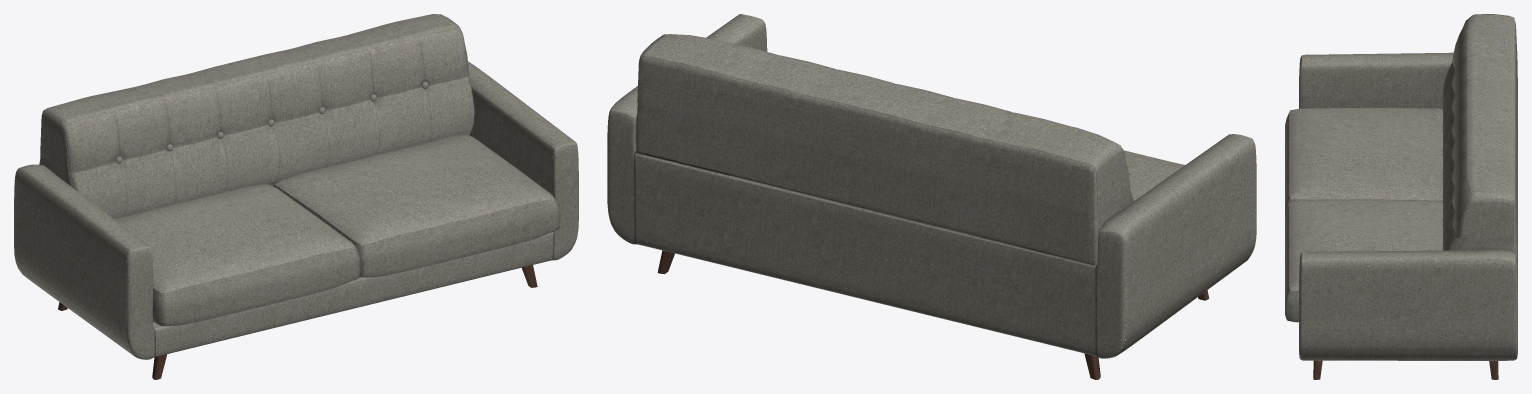
Rendered from abo-B072FVHS9G.glb.
3 views of the same model, side by side, from view 1: azimuth 30°, elevation 25°; view 2: azimuth 150°, elevation 25°; view 3: azimuth 270°, elevation 25° (orthographic). The views are drawn at different scales.
Size of the model in its own units: 2.05 by 0.873 by 0.968.
1 material, 1 textured.
